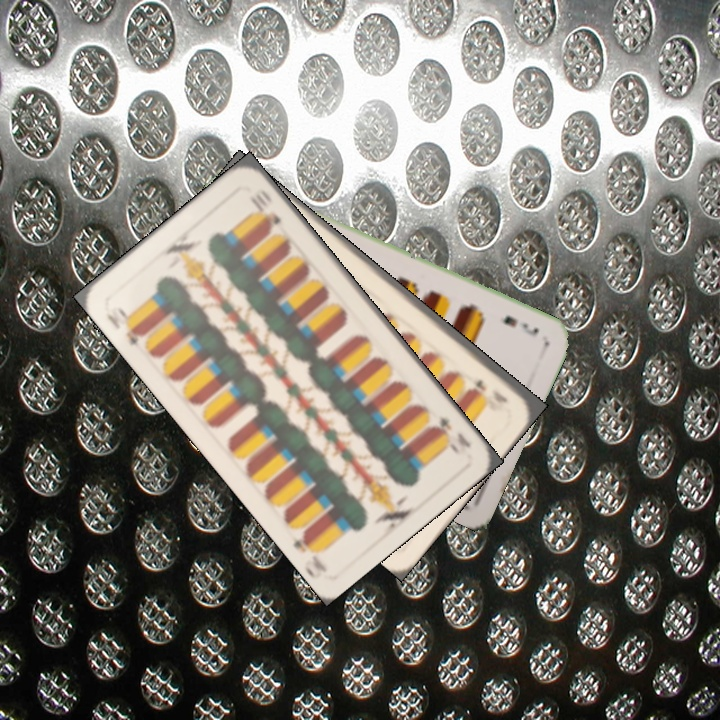E10: (102, 302, 148, 349), (429, 411, 474, 456), (471, 375, 511, 406)
E7: (498, 311, 541, 339)
